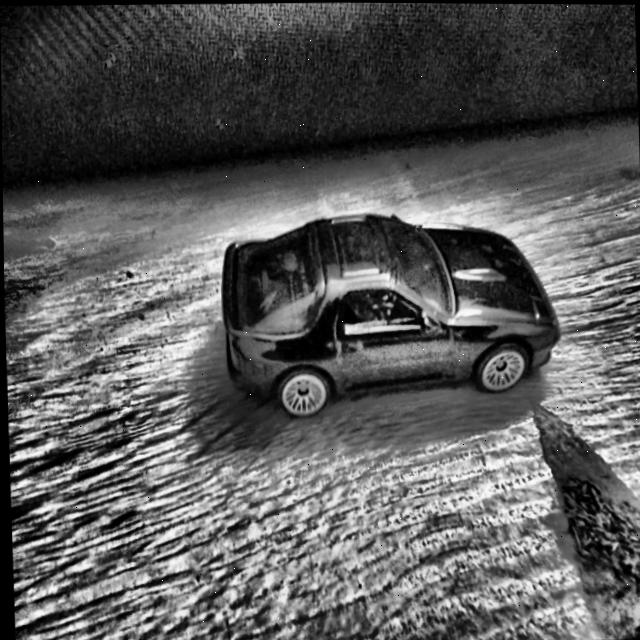car: (217, 206, 561, 420)
